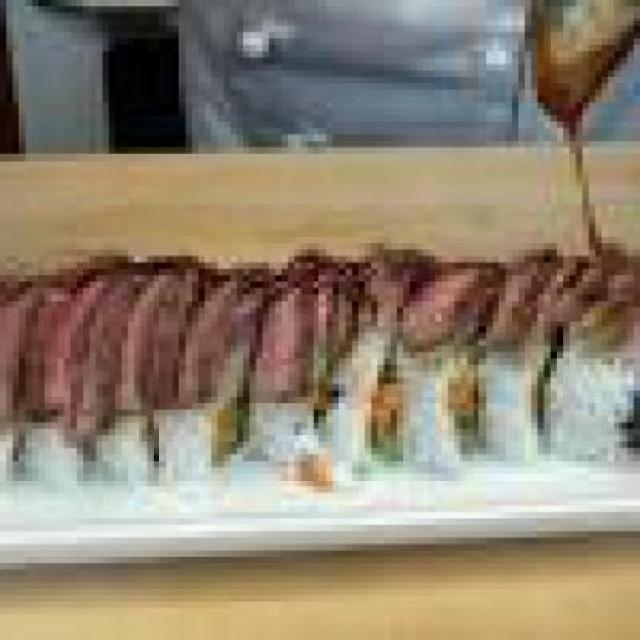steak: (6, 224, 634, 390)
